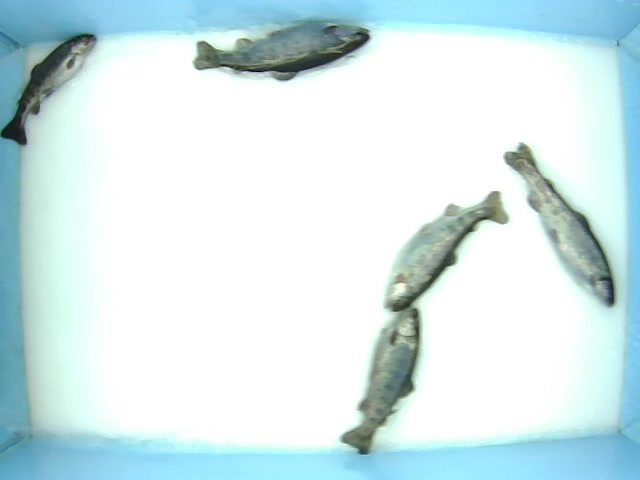fish: (506, 140, 619, 299), (380, 185, 512, 310), (337, 306, 419, 473), (1, 35, 112, 156), (193, 16, 384, 85)
